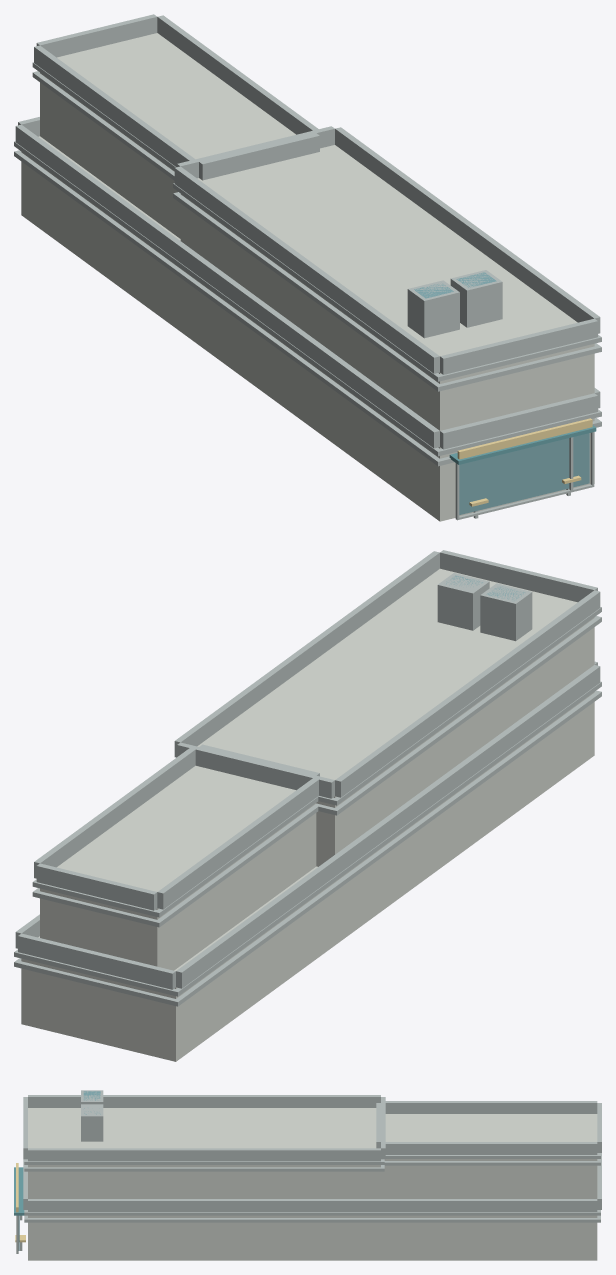
The model's file is commercial_1x4_court.glb.
The picture shows the model from 3 angles, top to bottom: view 1: azimuth 30°, elevation 25°; view 2: azimuth 150°, elevation 25°; view 3: azimuth 270°, elevation 25°; orthographic projection. The views are drawn at different scales.
Visible parts, largest first — view 1: commercial_1x4_court_0; view 2: commercial_1x4_court_0; view 3: commercial_1x4_court_0.
Part boxes in pixels (x1,y1,x2,y2): commercial_1x4_court_0: (14,14,601,521); commercial_1x4_court_0: (14,550,601,1061); commercial_1x4_court_0: (14,1090,601,1260).
Size of the model in its own units: 7 by 7.5 by 31.5.
